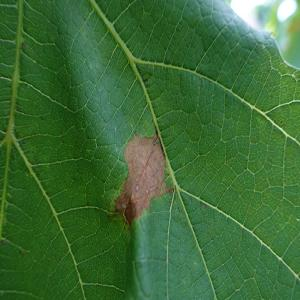Folha: (0, 0, 300, 299)
Fungo: (113, 130, 174, 230), (199, 201, 206, 209), (21, 41, 25, 49)
